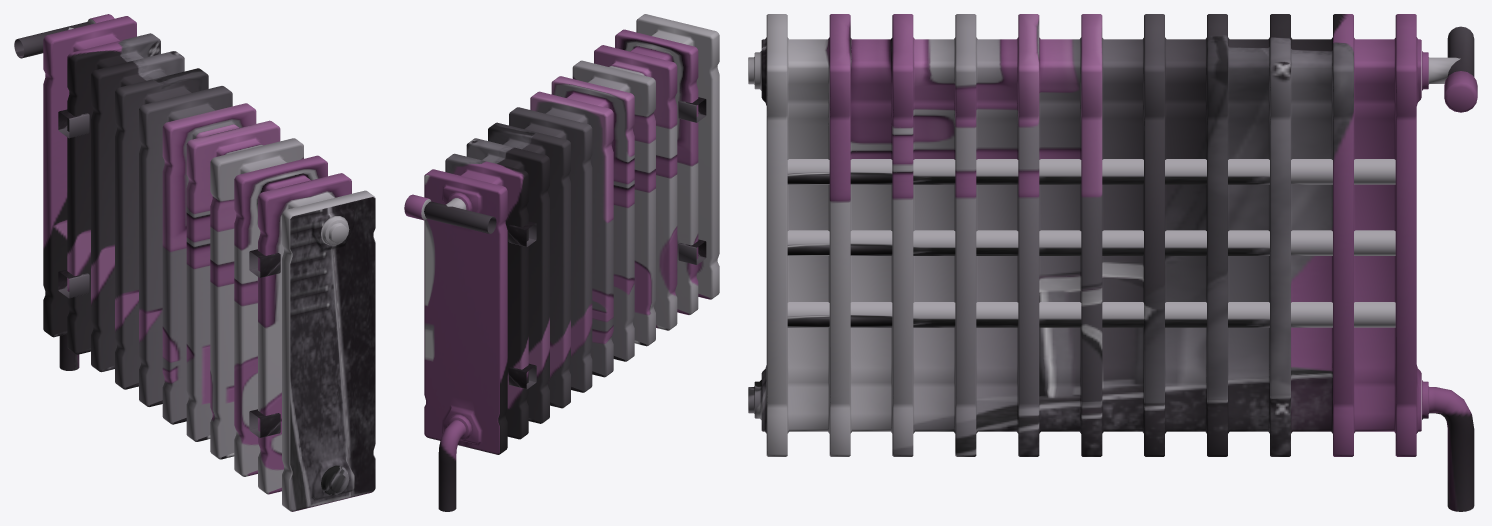
Rendered from SM_HousingInternalHeatRadiatorHI.fbx.
The picture shows the model from 3 angles, left to right: view 1: azimuth 30°, elevation 25°; view 2: azimuth 150°, elevation 25°; view 3: azimuth 270°, elevation 25°; orthographic projection. The views are drawn at different scales.
Parts seen in each view (by area): view 1: Radiator - Main part - LOW, Radiator - wall attachment - LOW, Pipes - LOW; view 2: Radiator - Main part - LOW, Pipes - LOW, Radiator - wall attachment - LOW, Valve - LOW; view 3: Radiator - Main part - LOW, Horizontal Pipes, Pipes - LOW, Valve - LOW.
Boxes of the visible parts, bbox=[...] form: Radiator - Main part - LOW: bbox=[43, 16, 375, 511]; Radiator - wall attachment - LOW: bbox=[58, 109, 280, 437]; Pipes - LOW: bbox=[14, 22, 349, 495]; Radiator - Main part - LOW: bbox=[424, 14, 719, 454]; Pipes - LOW: bbox=[424, 192, 496, 511]; Radiator - wall attachment - LOW: bbox=[508, 97, 706, 389]; Valve - LOW: bbox=[404, 194, 431, 220]; Radiator - Main part - LOW: bbox=[761, 14, 1421, 456]; Horizontal Pipes: bbox=[787, 159, 1395, 327]; Pipes - LOW: bbox=[748, 26, 1474, 511]; Valve - LOW: bbox=[1444, 71, 1477, 112].
Bounding box in the file's own units: 22.66 × 116 × 81.85.
